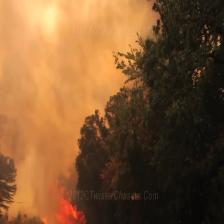fire: (43, 171, 85, 224)
